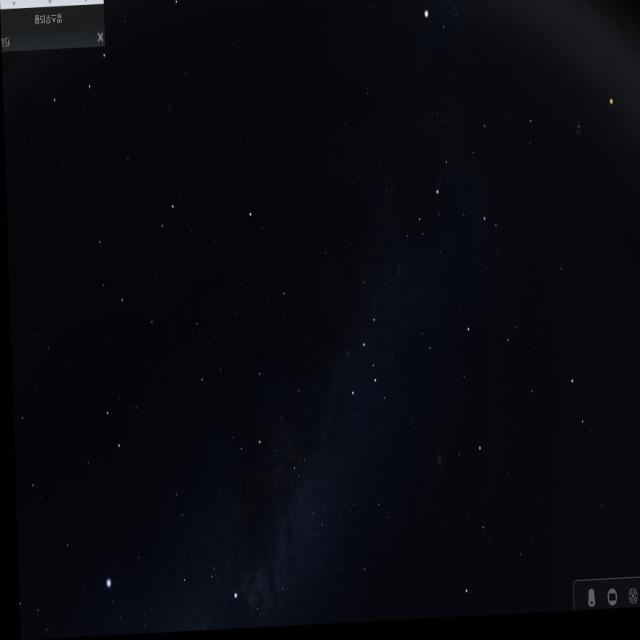cassiopeia: (339, 272, 390, 409)
pleiades: (571, 110, 588, 152)
